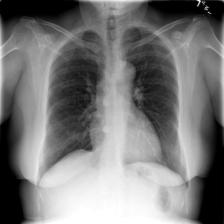normal: (32, 18, 192, 193)
